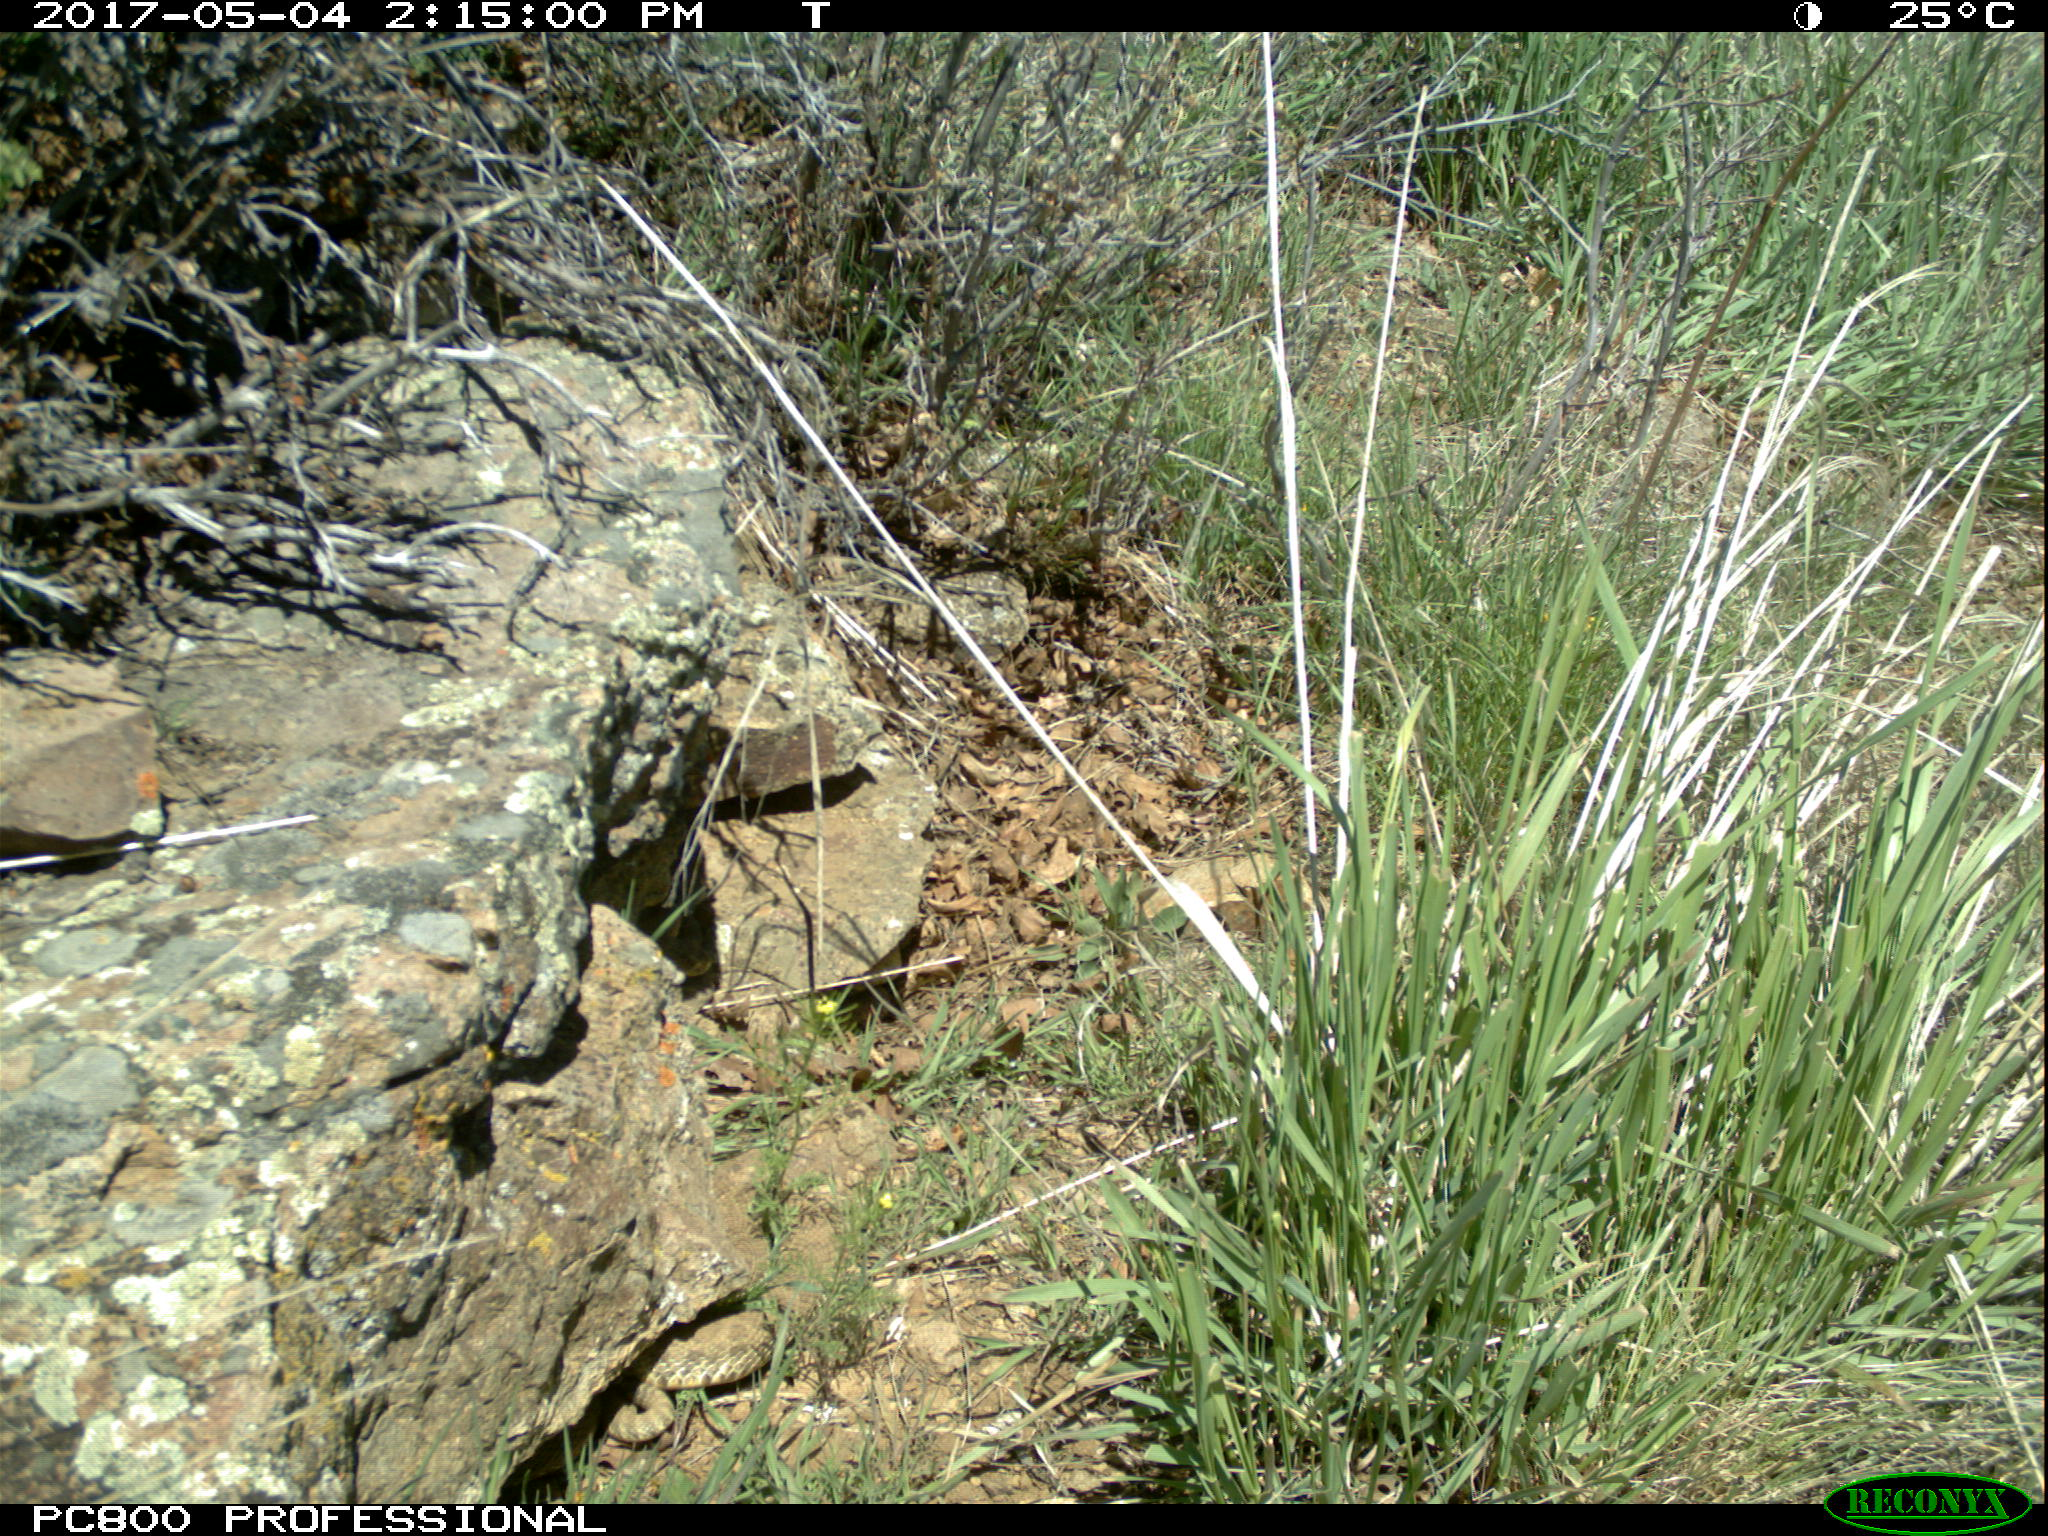snake: (610, 1315, 830, 1446)
